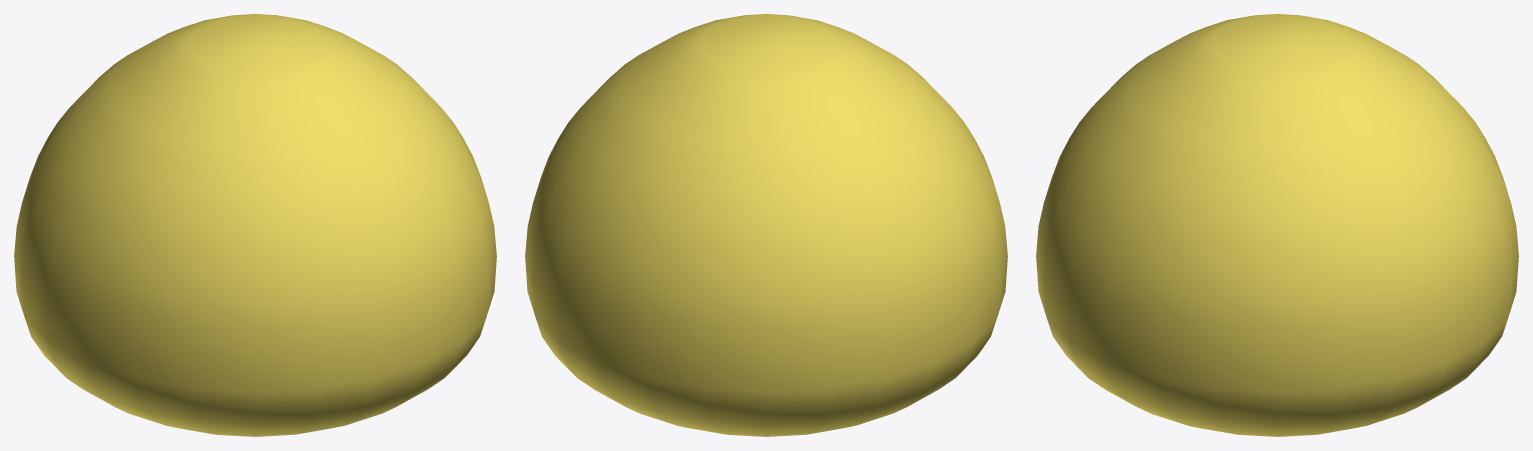
The model's file is FremontodendronCalifornicum.glb.
The picture shows the model from 3 angles, left to right: view 1: azimuth 30°, elevation 25°; view 2: azimuth 150°, elevation 25°; view 3: azimuth 270°, elevation 25°; orthographic projection.
Visible parts, largest first — view 1: Flannelbush__Schematic_LOD3; view 2: Flannelbush__Schematic_LOD3; view 3: Flannelbush__Schematic_LOD3.
Part boxes in pixels (x1,y1,x2,y2): Flannelbush__Schematic_LOD3: [14, 14, 496, 436]; Flannelbush__Schematic_LOD3: [525, 14, 1007, 436]; Flannelbush__Schematic_LOD3: [1036, 14, 1518, 436].
Bounding box in the file's own units: 2.54 × 2.09 × 2.54.
